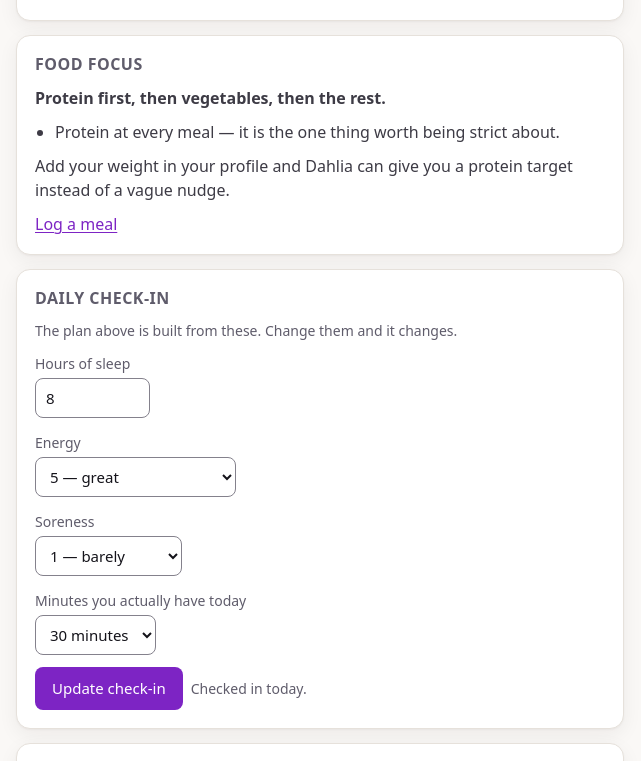
Home page — the plan responds to inputs › changes the plan when the check-in changes
(page scrolled)
Replace the text in the number field labelled "Hours of sleep" with "4". click: (92, 398)
box: [35,378,150,418]
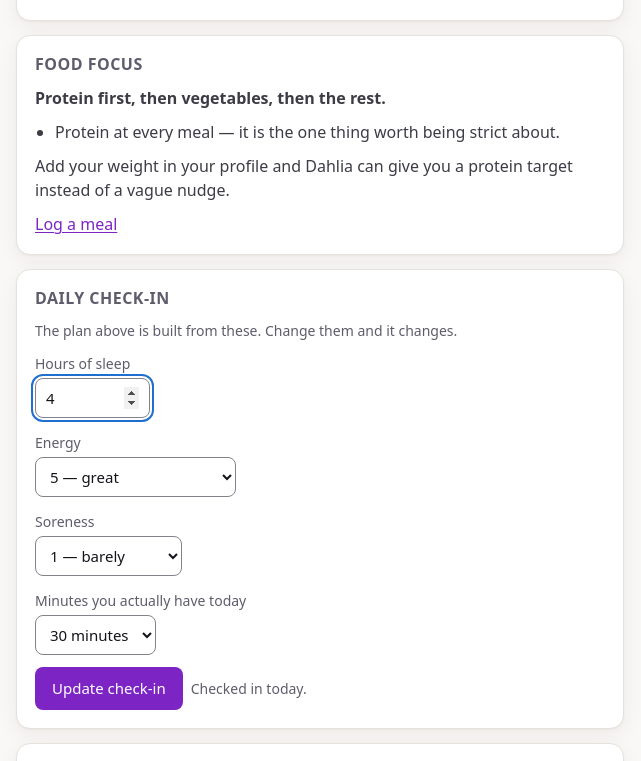
Select "1 — running on empty" in the dropdown labelled "Energy". click: (136, 477)
box: [35,457,236,497]
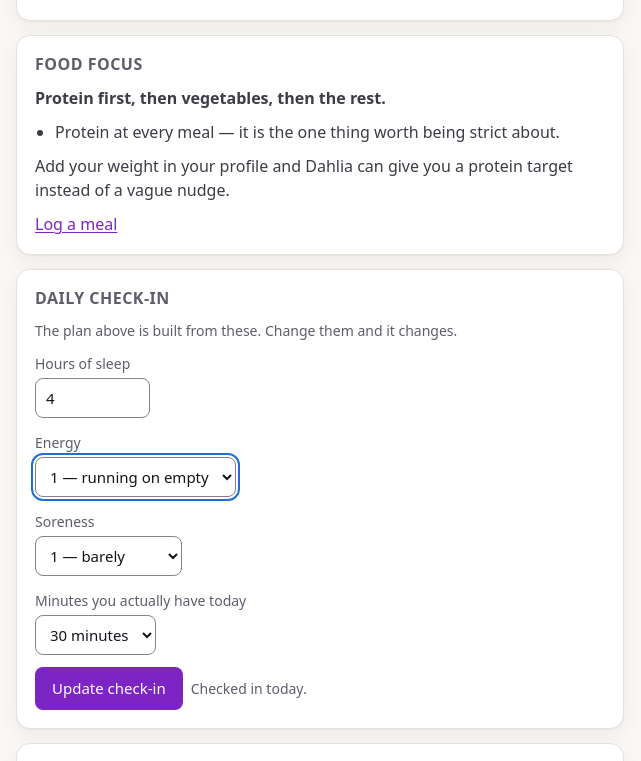
Select "5 — severe" in the dropdown labelled "Soreness". click: (108, 556)
box: [35,536,182,576]
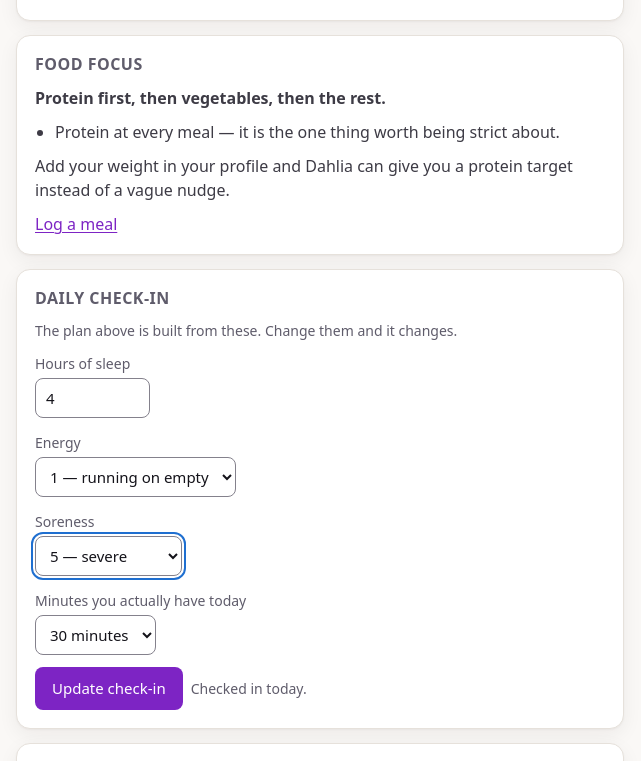
Click the button "Update check-in". click: (109, 688)
box: [35,667,183,710]
(page scrolled)
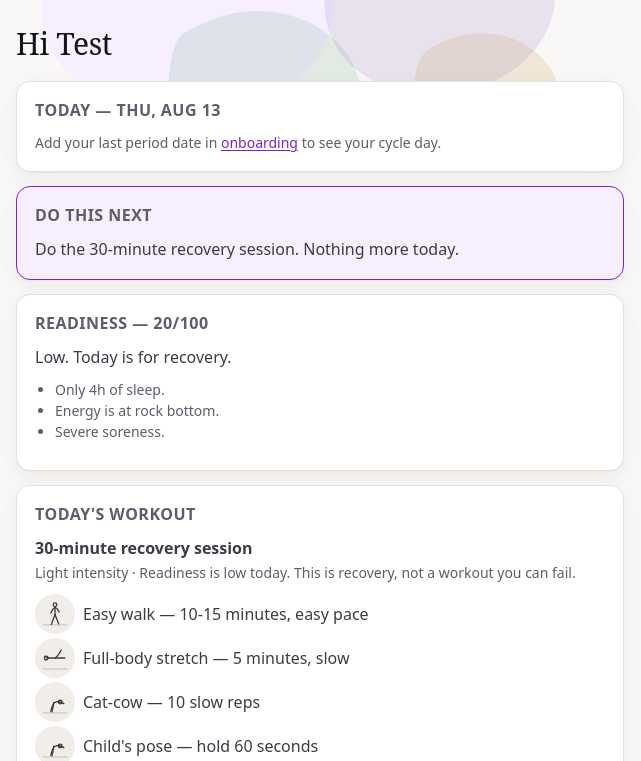
Now the text "Low. Today is for recovery." is shown, box [35,346,232,368]
